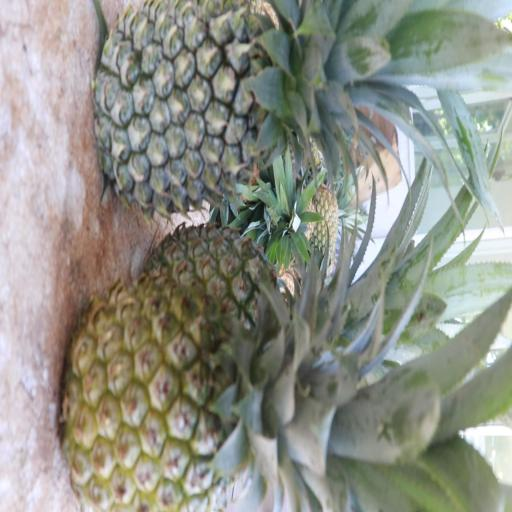------------------------------: (56, 273, 388, 512)
